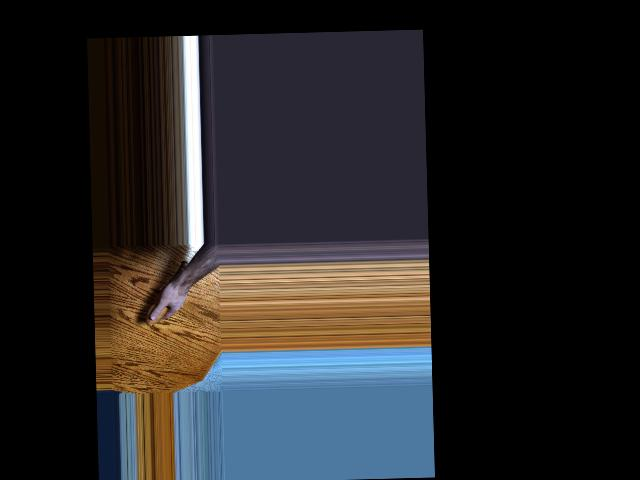sweet_potato: (144, 258, 192, 327)
